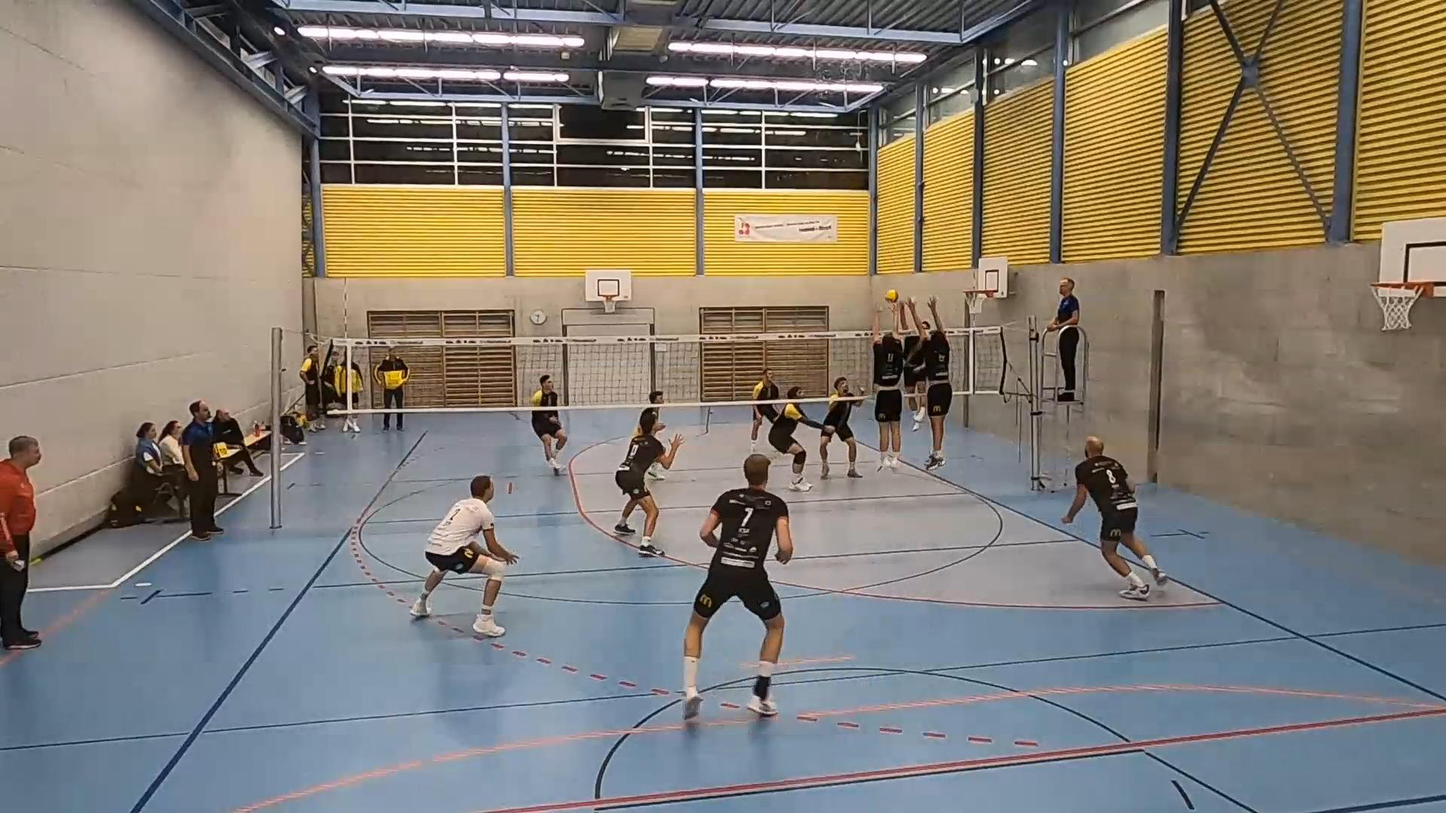attacco: (892, 287, 933, 429)
muro: (908, 301, 955, 474), (868, 301, 913, 474)
